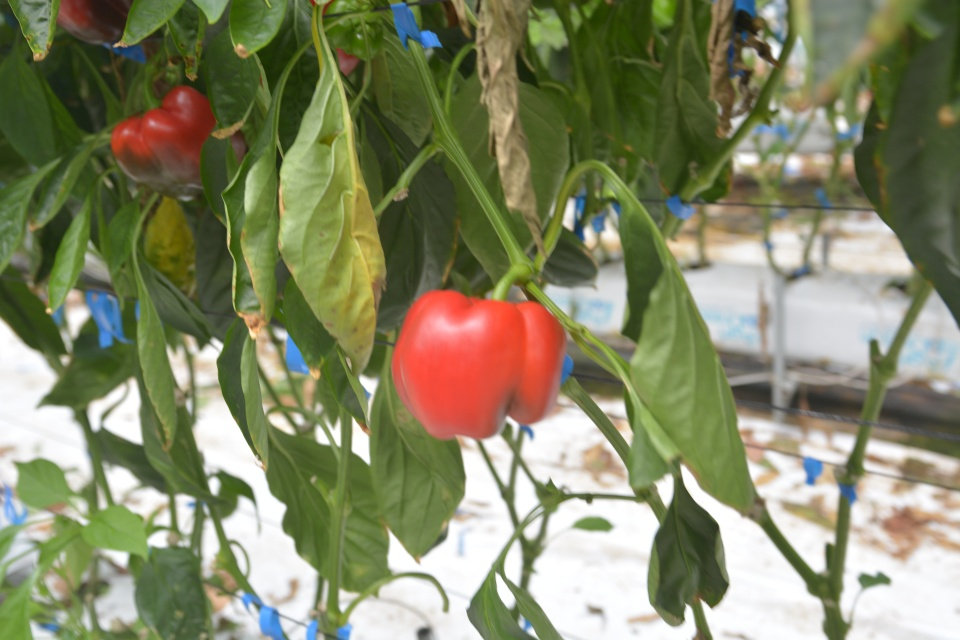fruit: (389, 284, 569, 442), (108, 83, 247, 207), (56, 0, 132, 47)
